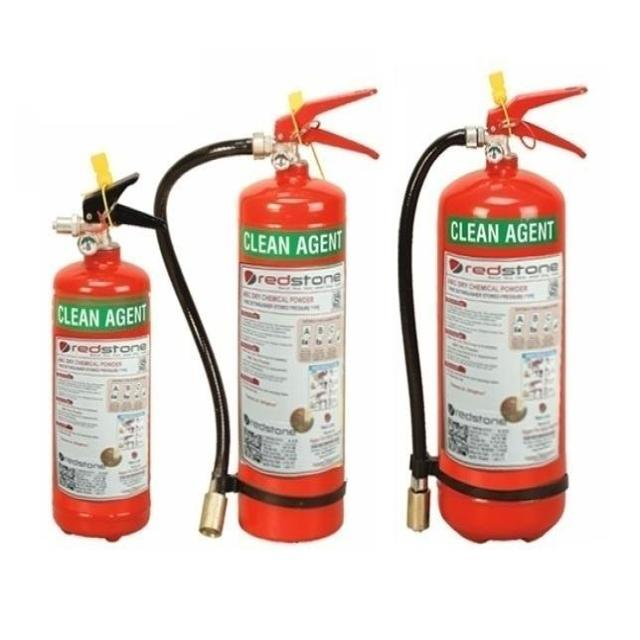fire_extinguisher: (151, 82, 380, 550), (393, 65, 590, 548), (46, 149, 172, 547)
